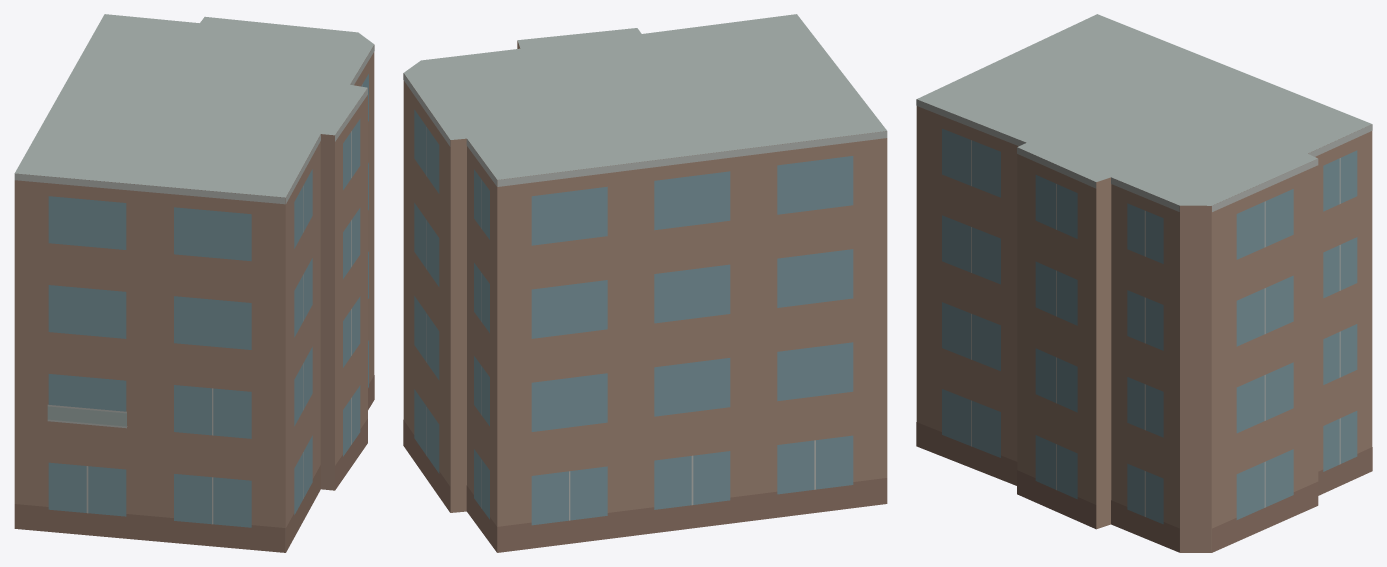
Rendered from survey-upis-32663899.glb.
3 views of the same model, side by side, from view 1: azimuth 30°, elevation 25°; view 2: azimuth 150°, elevation 25°; view 3: azimuth 270°, elevation 25° (orthographic). The views are drawn at different scales.
Visible parts, largest first — view 1: survey-upis-32663899.tmp; view 2: survey-upis-32663899.tmp; view 3: survey-upis-32663899.tmp.
Boxes of the visible parts, x1,y1,x2,y2 form: survey-upis-32663899.tmp: (14,14,374,552); survey-upis-32663899.tmp: (403,14,887,552); survey-upis-32663899.tmp: (916,14,1372,552).
Bounding box in the file's own units: 15.18 × 12.8 × 15.25.
